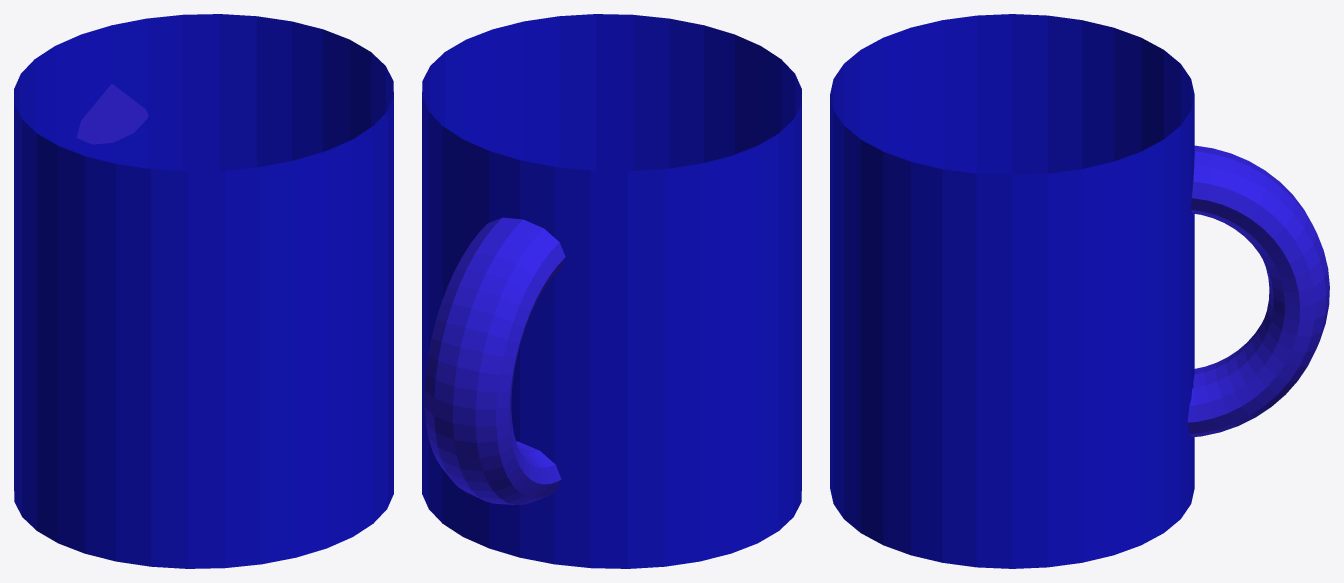
File: BlueCup.fbx
The picture shows the model from 3 angles, left to right: view 1: azimuth 30°, elevation 25°; view 2: azimuth 150°, elevation 25°; view 3: azimuth 270°, elevation 25°; orthographic projection.
Visible parts, largest first — view 1: Cylinder, Torus; view 2: Cylinder, Torus; view 3: Cylinder, Torus.
Boxes of the visible parts, box(x1,y1,x2,y2) form: Cylinder: box(14, 14, 393, 568); Torus: box(76, 84, 148, 144); Cylinder: box(422, 14, 801, 568); Torus: box(424, 217, 565, 504); Cylinder: box(830, 14, 1194, 568); Torus: box(1187, 145, 1329, 437).
Size of the model in its own units: 48.22 by 54.87 by 63.16.
